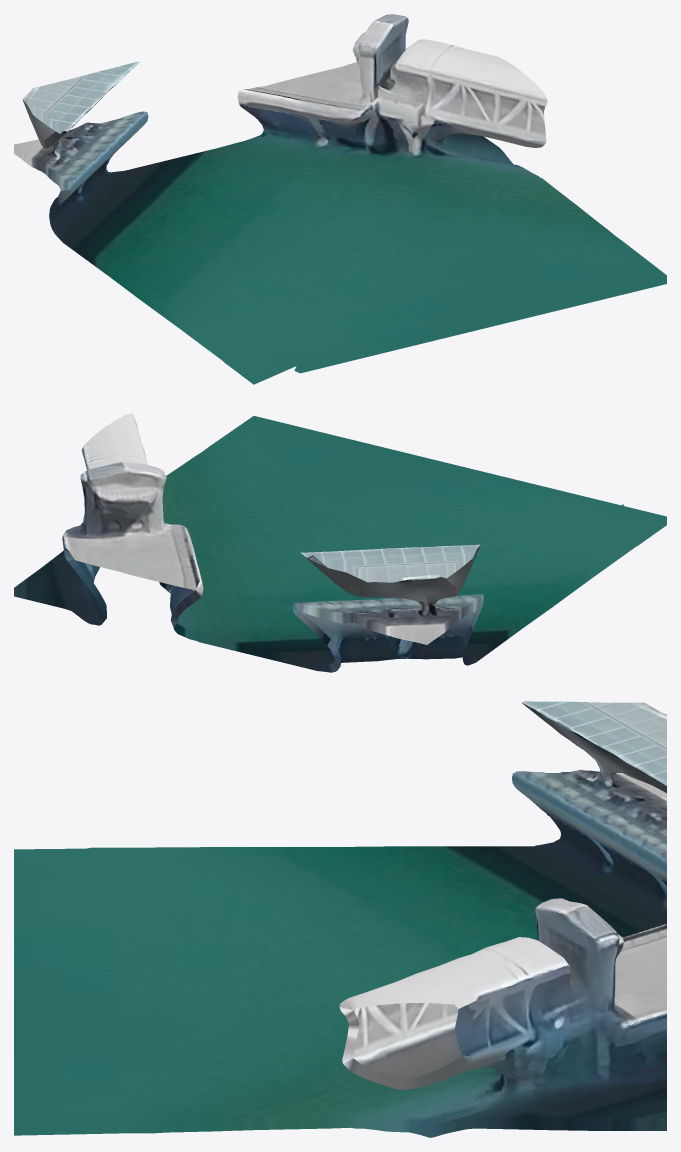
Rendered from z20-167795-405223-h0-yup-uvflip-v3-world.glb.
3 views of the same model, one above another, from view 1: azimuth 30°, elevation 25°; view 2: azimuth 150°, elevation 25°; view 3: azimuth 270°, elevation 25° (orthographic). The views are drawn at different scales.
Size of the model in its own units: 30.16 by 9.44 by 30.32.
Materials: 1 (1 with a texture image).
